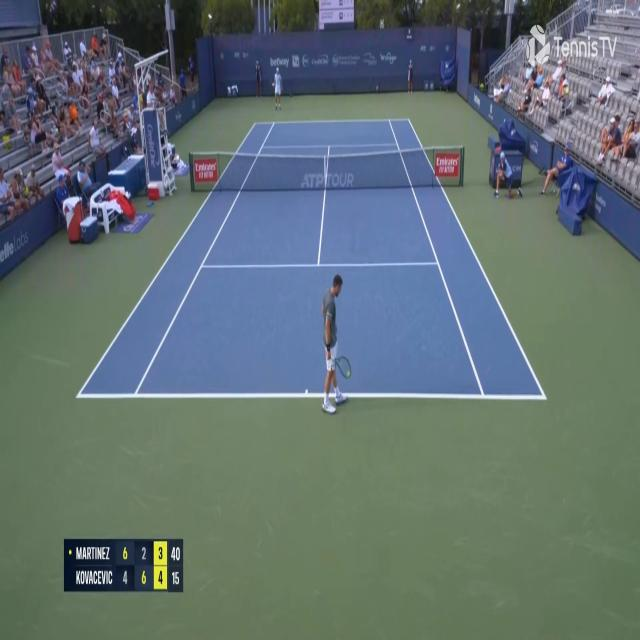tennis-player: (319, 268, 352, 418), (272, 67, 283, 111)
